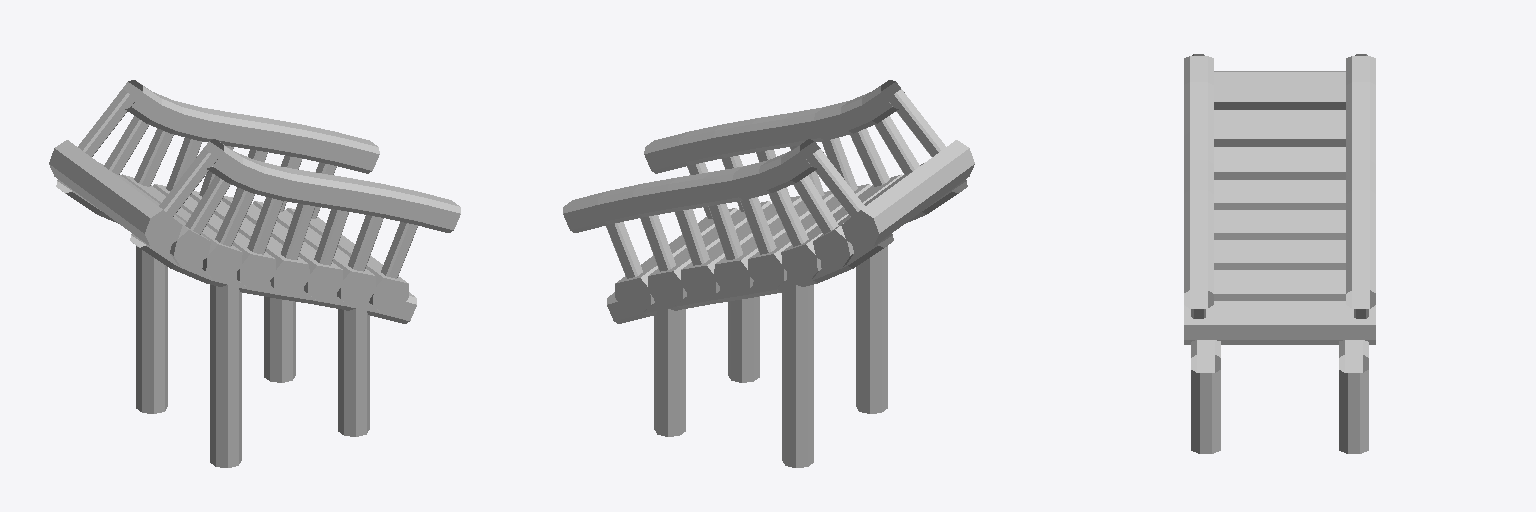
The model's file is Track_Bridge_Incline_Gentle_Sharp_Supported.obj.
The picture shows the model from 3 angles: view 1: azimuth 30°, elevation 25°; view 2: azimuth 150°, elevation 25°; view 3: azimuth 270°, elevation 25°; orthographic projection.
Visible parts, largest first — view 1: Bridge_Pier, Bridge_Rail, Bridge_Rail_Support, Log_Plank_End, Log_Plank_Bark, Log_Plank_Top, Bridge_Support_Beam; view 2: Bridge_Pier, Bridge_Rail, Bridge_Rail_Support, Log_Plank_End, Log_Plank_Bark, Log_Plank_Top, Bridge_Support_Beam; view 3: Log_Plank_Top, Bridge_Rail, Log_Plank_Bark, Bridge_Pier, Bridge_Support_Beam.
Part boxes in pixels (bbox=[...]): Bridge_Pier: bbox=[136, 246, 369, 467]; Bridge_Rail: bbox=[119, 80, 460, 232]; Bridge_Rail_Support: bbox=[78, 89, 417, 278]; Log_Plank_End: bbox=[145, 210, 408, 313]; Log_Plank_Bark: bbox=[49, 140, 382, 311]; Log_Plank_Top: bbox=[100, 163, 408, 283]; Bridge_Support_Beam: bbox=[56, 180, 416, 323]; Bridge_Pier: bbox=[654, 246, 887, 467]; Bridge_Rail: bbox=[563, 80, 904, 232]; Bridge_Rail_Support: bbox=[606, 89, 945, 278]; Log_Plank_End: bbox=[615, 210, 878, 313]; Log_Plank_Bark: bbox=[641, 140, 974, 311]; Log_Plank_Top: bbox=[615, 163, 923, 283]; Bridge_Support_Beam: bbox=[607, 180, 967, 323]; Log_Plank_Top: bbox=[1184, 72, 1375, 324]; Bridge_Rail: bbox=[1184, 56, 1375, 308]; Log_Plank_Bark: bbox=[1184, 71, 1375, 344]; Bridge_Pier: bbox=[1191, 370, 1368, 453]; Bridge_Support_Beam: bbox=[1191, 340, 1368, 372].
Bounding box in the file's own units: 2.49 × 2.42 × 1.3.